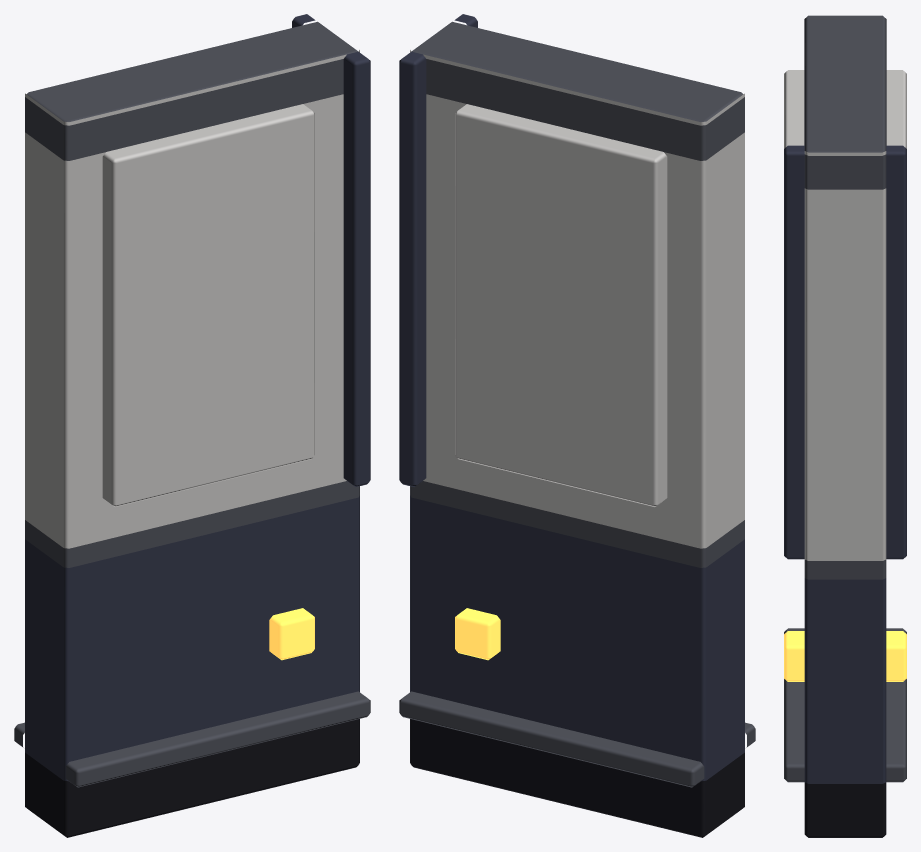
Rendered from int.edge.panel.glb.
3 renders of one model, left to right at view 1: azimuth 30°, elevation 25°; view 2: azimuth 150°, elevation 25°; view 3: azimuth 270°, elevation 25°, orthographic. The views are drawn at different scales.
Visible parts, largest first — view 1: int.edge.panel; view 2: int.edge.panel; view 3: int.edge.panel.
Part boxes in pixels (<box>): int.edge.panel: <box>14,14,370,837</box>; int.edge.panel: <box>399,14,755,837</box>; int.edge.panel: <box>784,15,906,837</box>.
Size of the model in its own units: 1 by 2.31 by 0.375.
